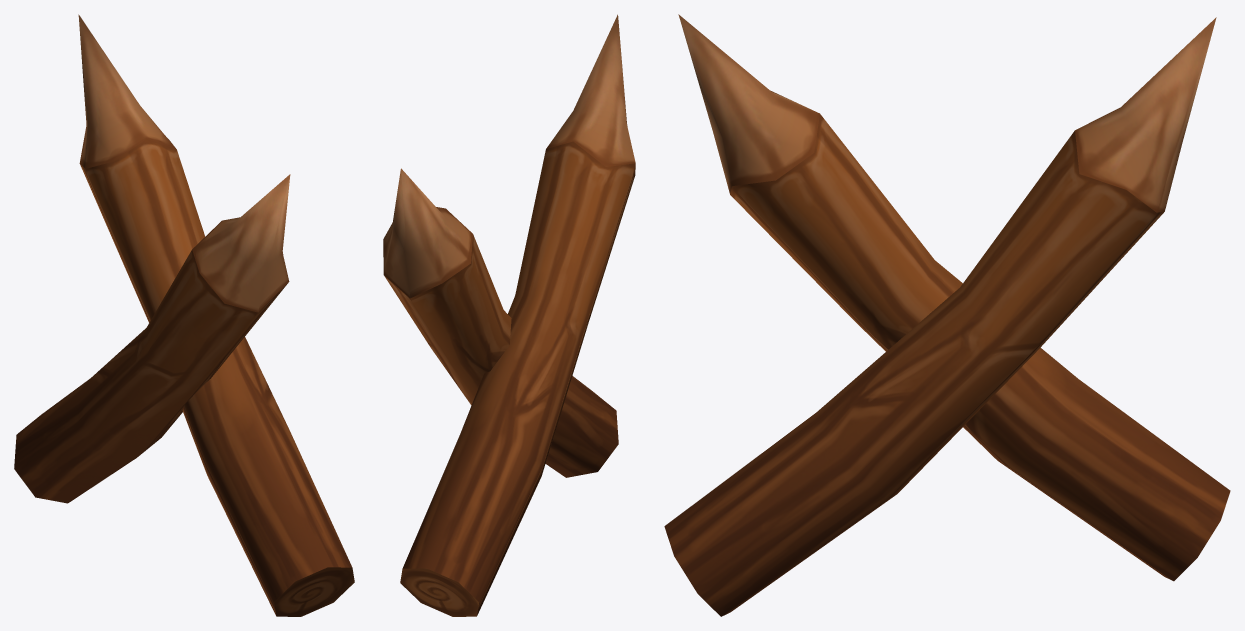
Rendered from Barricade.fbx.
3 renders of one model, left to right at view 1: azimuth 30°, elevation 25°; view 2: azimuth 150°, elevation 25°; view 3: azimuth 270°, elevation 25°, orthographic. The views are drawn at different scales.
Visible parts, largest first — view 1: Cylinder005; view 2: Cylinder005; view 3: Cylinder005.
Part boxes in pixels (left/top/right/bottom): Cylinder005: left=14, top=14, right=354, bottom=616; Cylinder005: left=383, top=14, right=635, bottom=616; Cylinder005: left=664, top=14, right=1230, bottom=616.
Bounding box in the file's own units: 453 × 1447 × 1282.
Materials: 1 (1 with a texture image).
